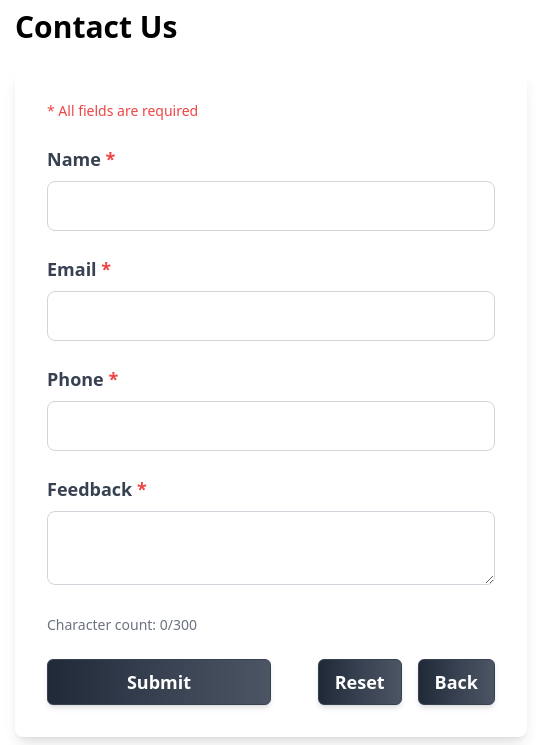
it: Contact › validates email format
In the field labelled "Email *": (271, 316) [47,291,495,341], type "invalid-email"
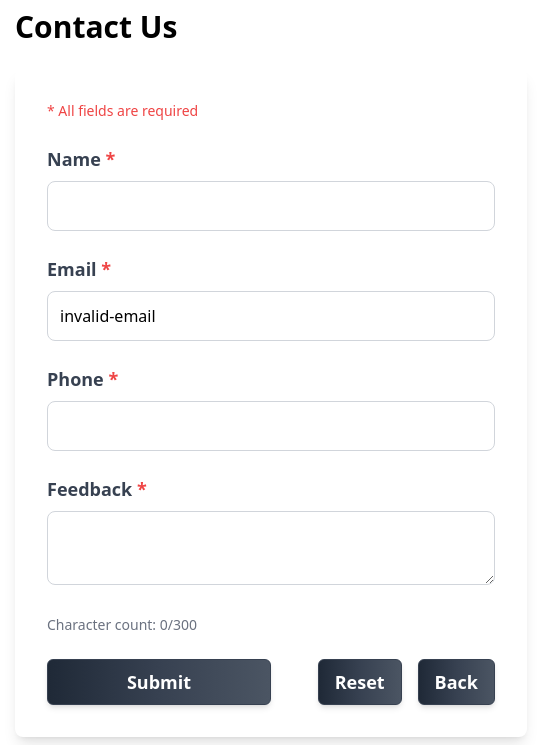
Click the button "Submit": (159, 682) [47,659,271,705]
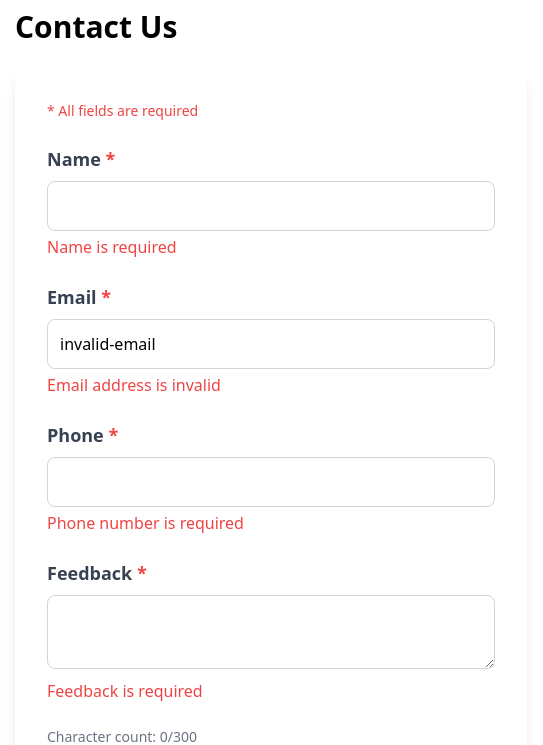
Expected: the text "Email address is invalid" is shown, [47,374,221,396]
